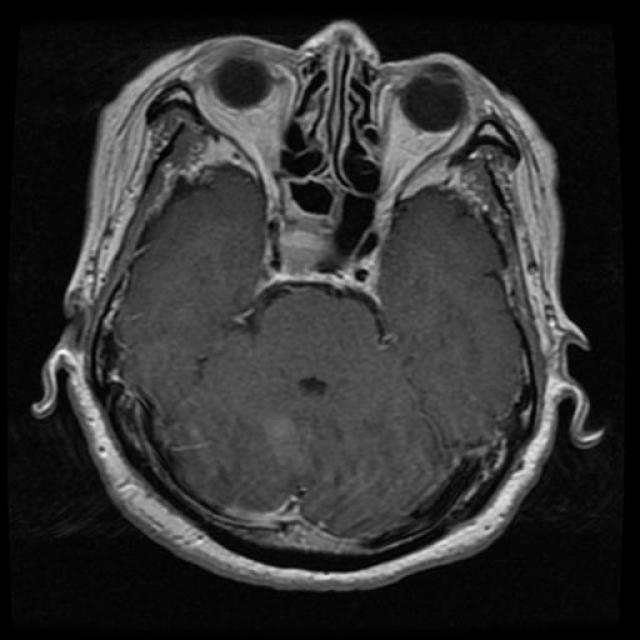pituitary: (267, 208, 388, 312)
